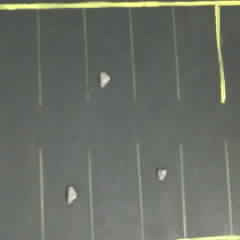obstacle: (55, 174, 85, 215), (94, 61, 115, 93), (149, 160, 171, 186)
